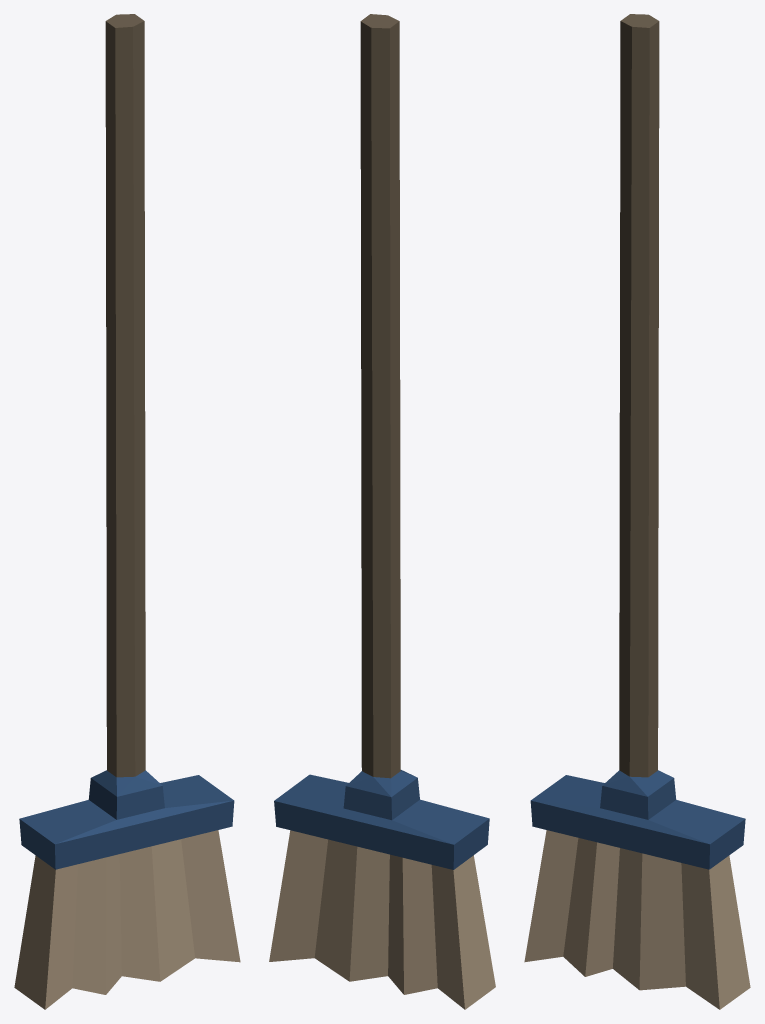
Rendered from SM_Prop_Broom_01.obj.
The picture shows the model from 3 angles, left to right: view 1: azimuth 30°, elevation 25°; view 2: azimuth 150°, elevation 25°; view 3: azimuth 330°, elevation 25°; orthographic projection.
Parts seen in each view (by area): view 1: SM_Prop_Broom_01_M_PolygonOffice_01_A; view 2: SM_Prop_Broom_01_M_PolygonOffice_01_A; view 3: SM_Prop_Broom_01_M_PolygonOffice_01_A.
Boxes of the visible parts, box(x1,y1,x2,y2) form: SM_Prop_Broom_01_M_PolygonOffice_01_A: box(14, 14, 240, 1009); SM_Prop_Broom_01_M_PolygonOffice_01_A: box(269, 14, 495, 1009); SM_Prop_Broom_01_M_PolygonOffice_01_A: box(524, 14, 750, 1009).
Bounding box in the file's own units: 0.2215 × 1.03 × 0.0697.
Materials: 1 (1 with a texture image).
